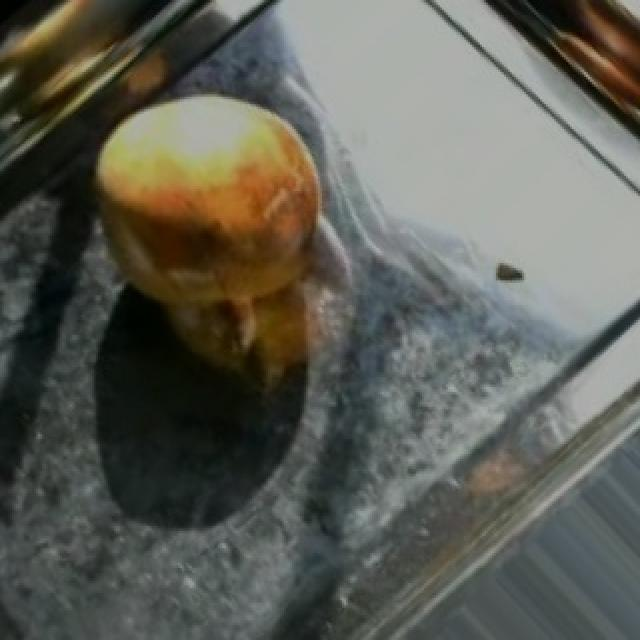fruit: (72, 60, 350, 338), (490, 0, 640, 131)
